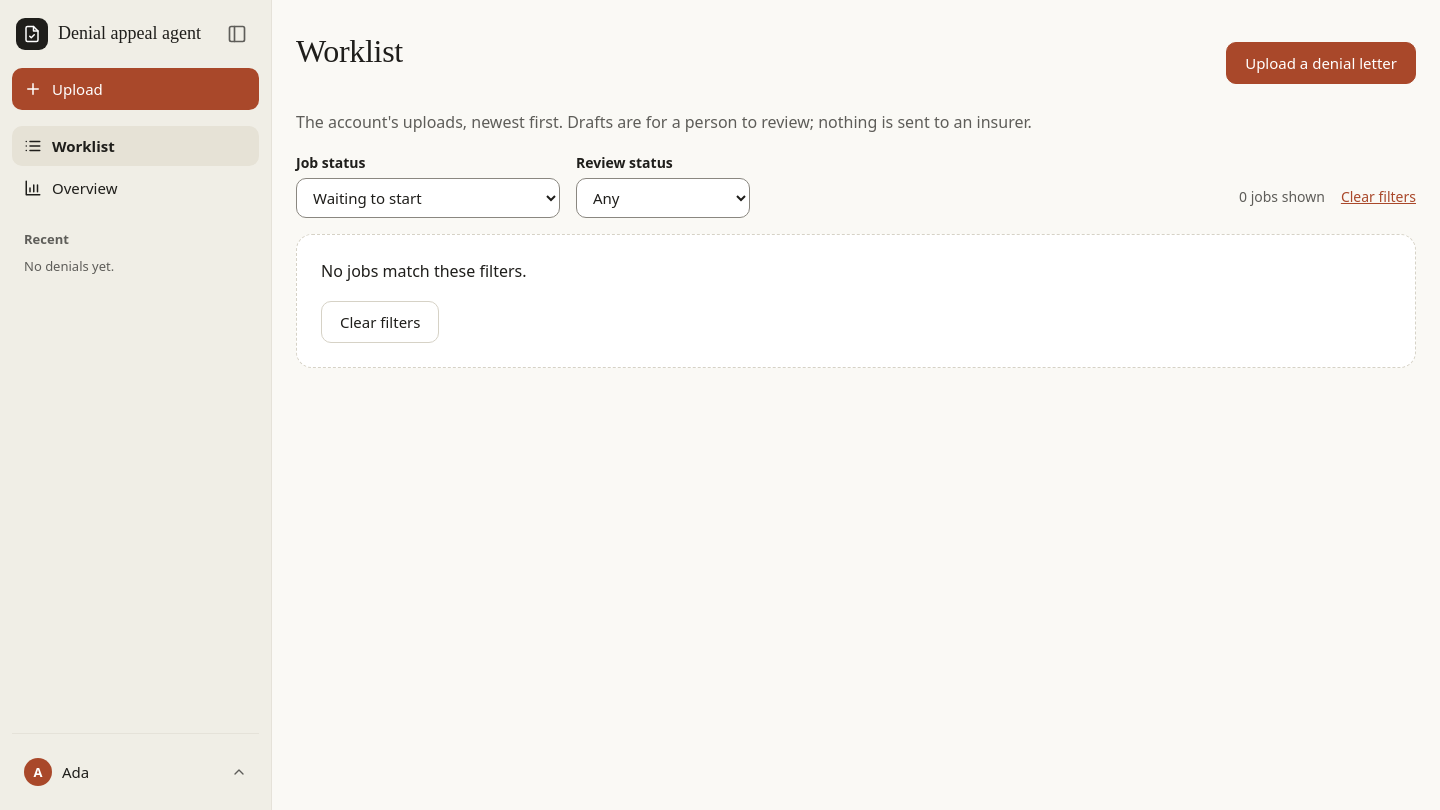
Test: WorklistScreen › offers to clear the filters when they match nothing
The width and height of the screenshot is (1440, 810).
Expected: the text "No jobs match these filters." is shown, [321,259,527,285]
What coordinates should you click on to do the following:
click the button "Clear filters" below "No jobs match these filters."
I would click on:
 (380, 322)
Its box is [321,301,440,343].
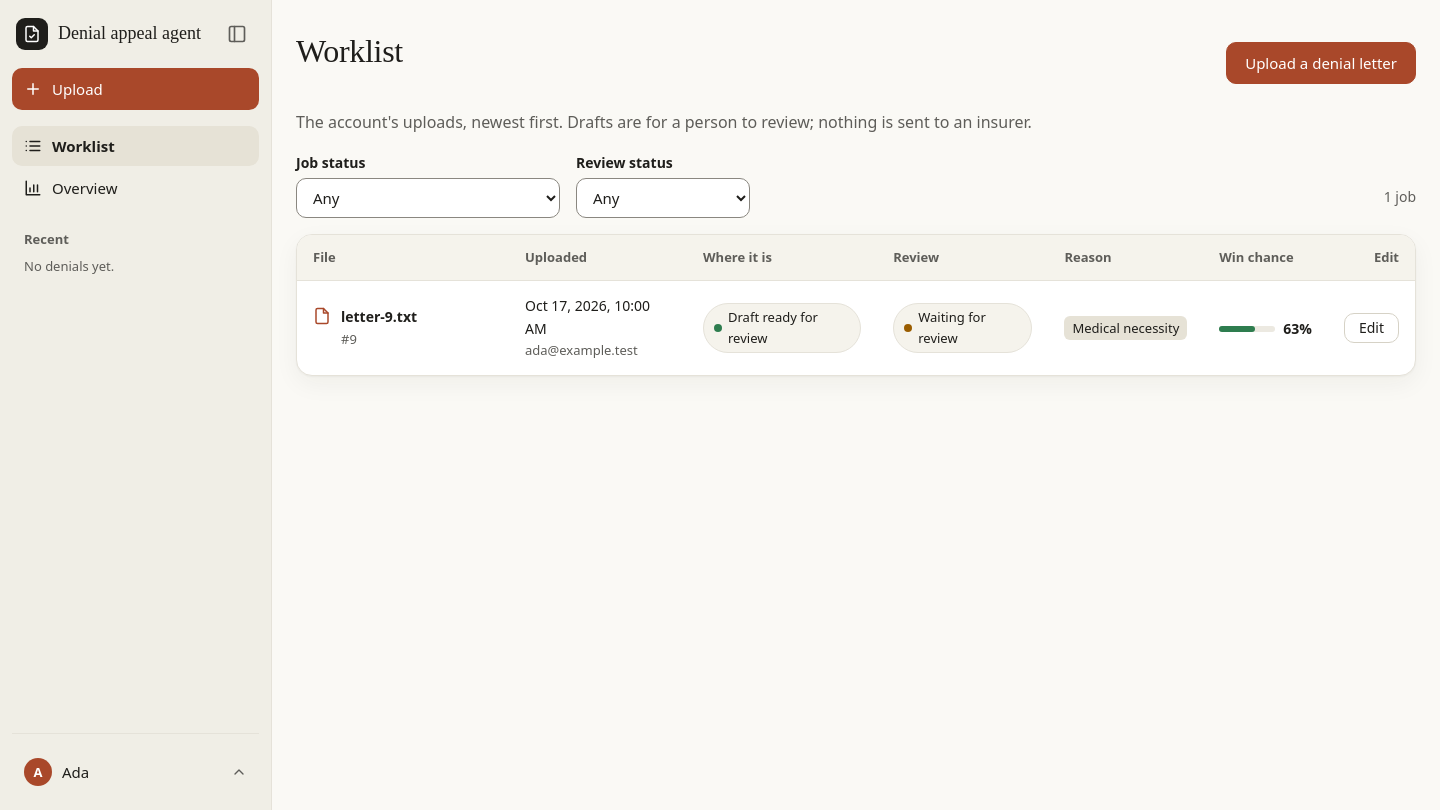
Expected: the text "letter-9.txt" is shown, [341,307,417,326]
